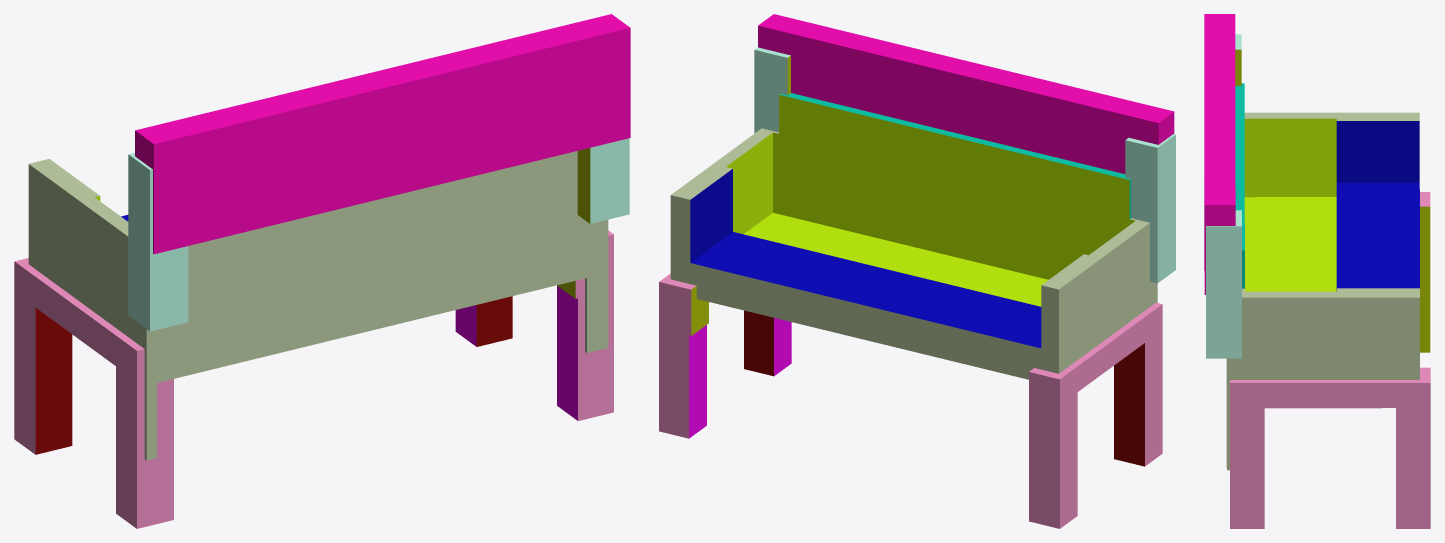
Rendered from 02828884_bench_62.glb.
3 views of the same model, side by side, from view 1: azimuth 30°, elevation 25°; view 2: azimuth 150°, elevation 25°; view 3: azimuth 270°, elevation 25° (orthographic). The views are drawn at different scales.
Parts seen in each view (by area): view 1: Plane; view 2: Plane; view 3: Plane.
Boxes of the visible parts, x1,y1,x2,y2 form: Plane: (14,14,630,528); Plane: (659,14,1175,528); Plane: (1204,14,1430,528).
Bounding box in the file's own units: 1.5 × 1.18 × 0.7456.
